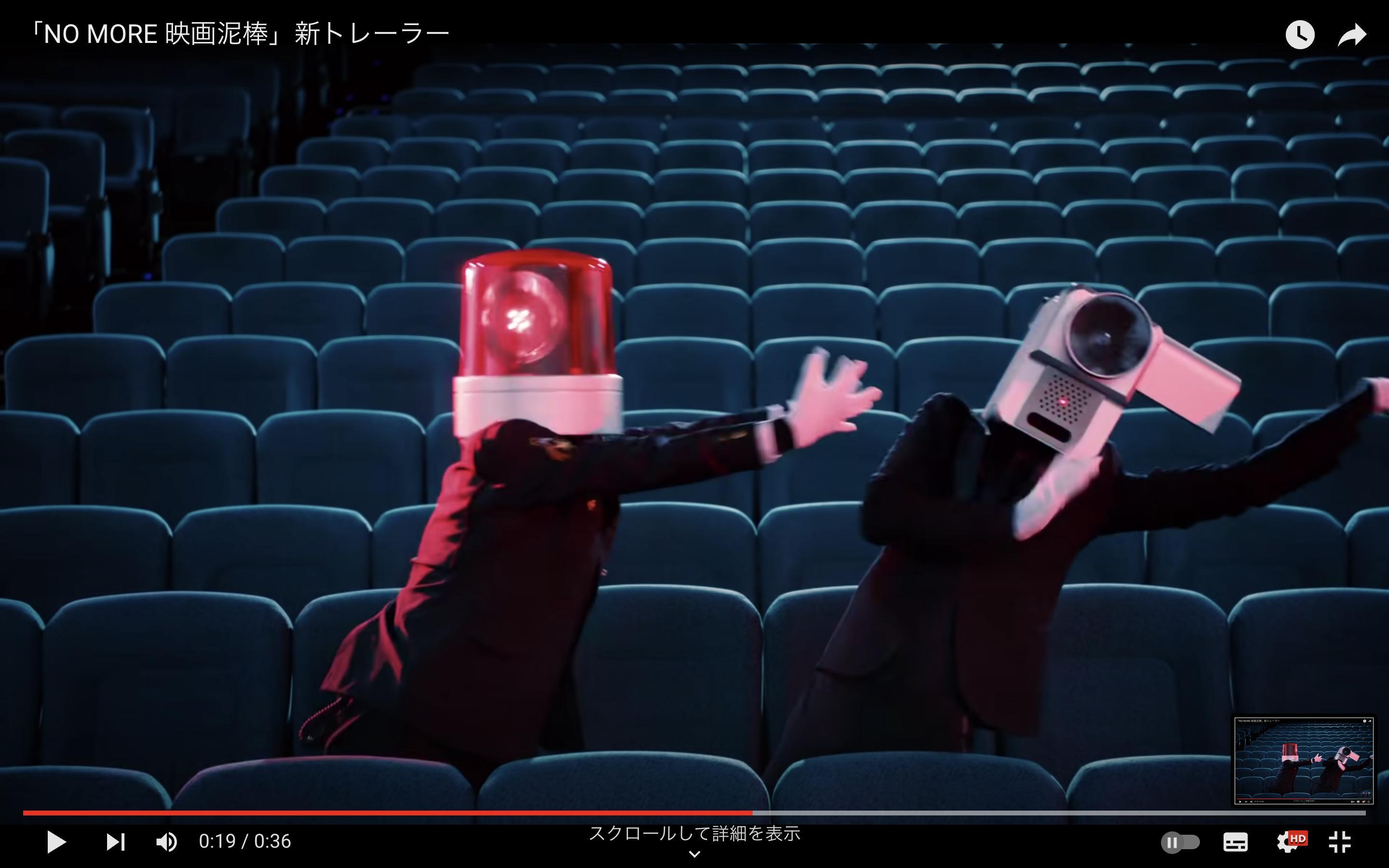no more kid: (990, 286, 1241, 475)
